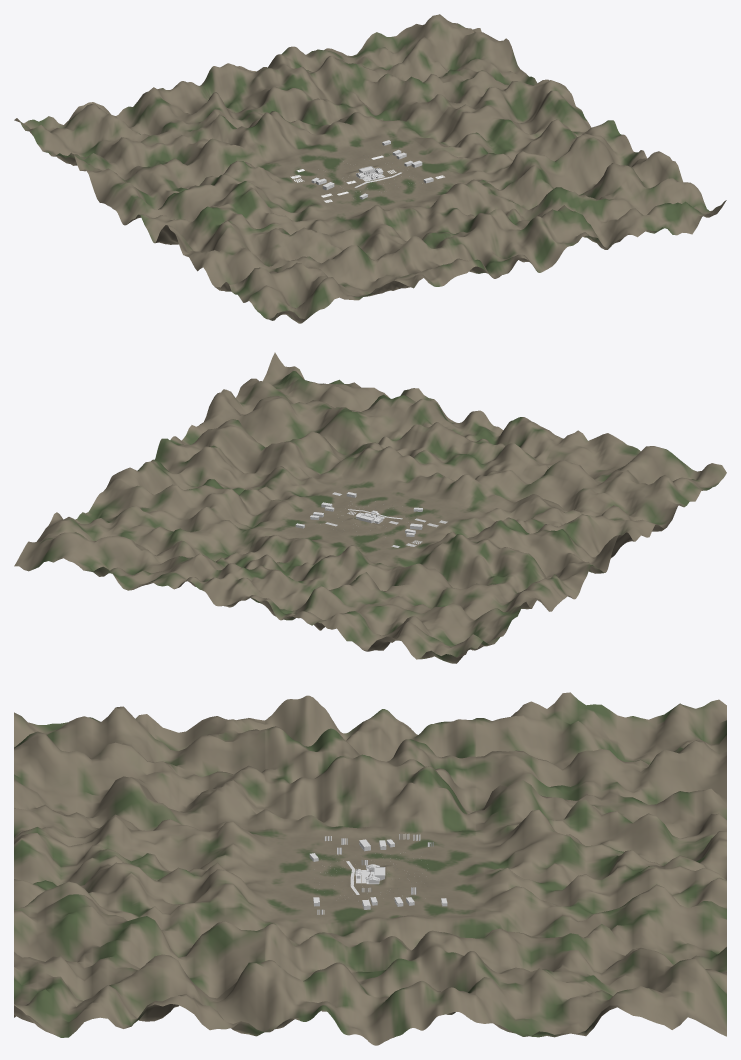
File: baxi.glb
The picture shows the model from 3 angles, top to bottom: view 1: azimuth 30°, elevation 25°; view 2: azimuth 150°, elevation 25°; view 3: azimuth 270°, elevation 25°; orthographic projection. The views are drawn at different scales.
Parts seen in each view (by area): view 1: Continuous terrain; view 2: Continuous terrain; view 3: Continuous terrain.
Part boxes in pixels (left/top/right/bottom): Continuous terrain: left=14, top=14, right=726, bottom=323; Continuous terrain: left=14, top=352, right=726, bottom=663; Continuous terrain: left=14, top=692, right=726, bottom=1045.
Size of the model in its own units: 592 by 58.12 by 592.
